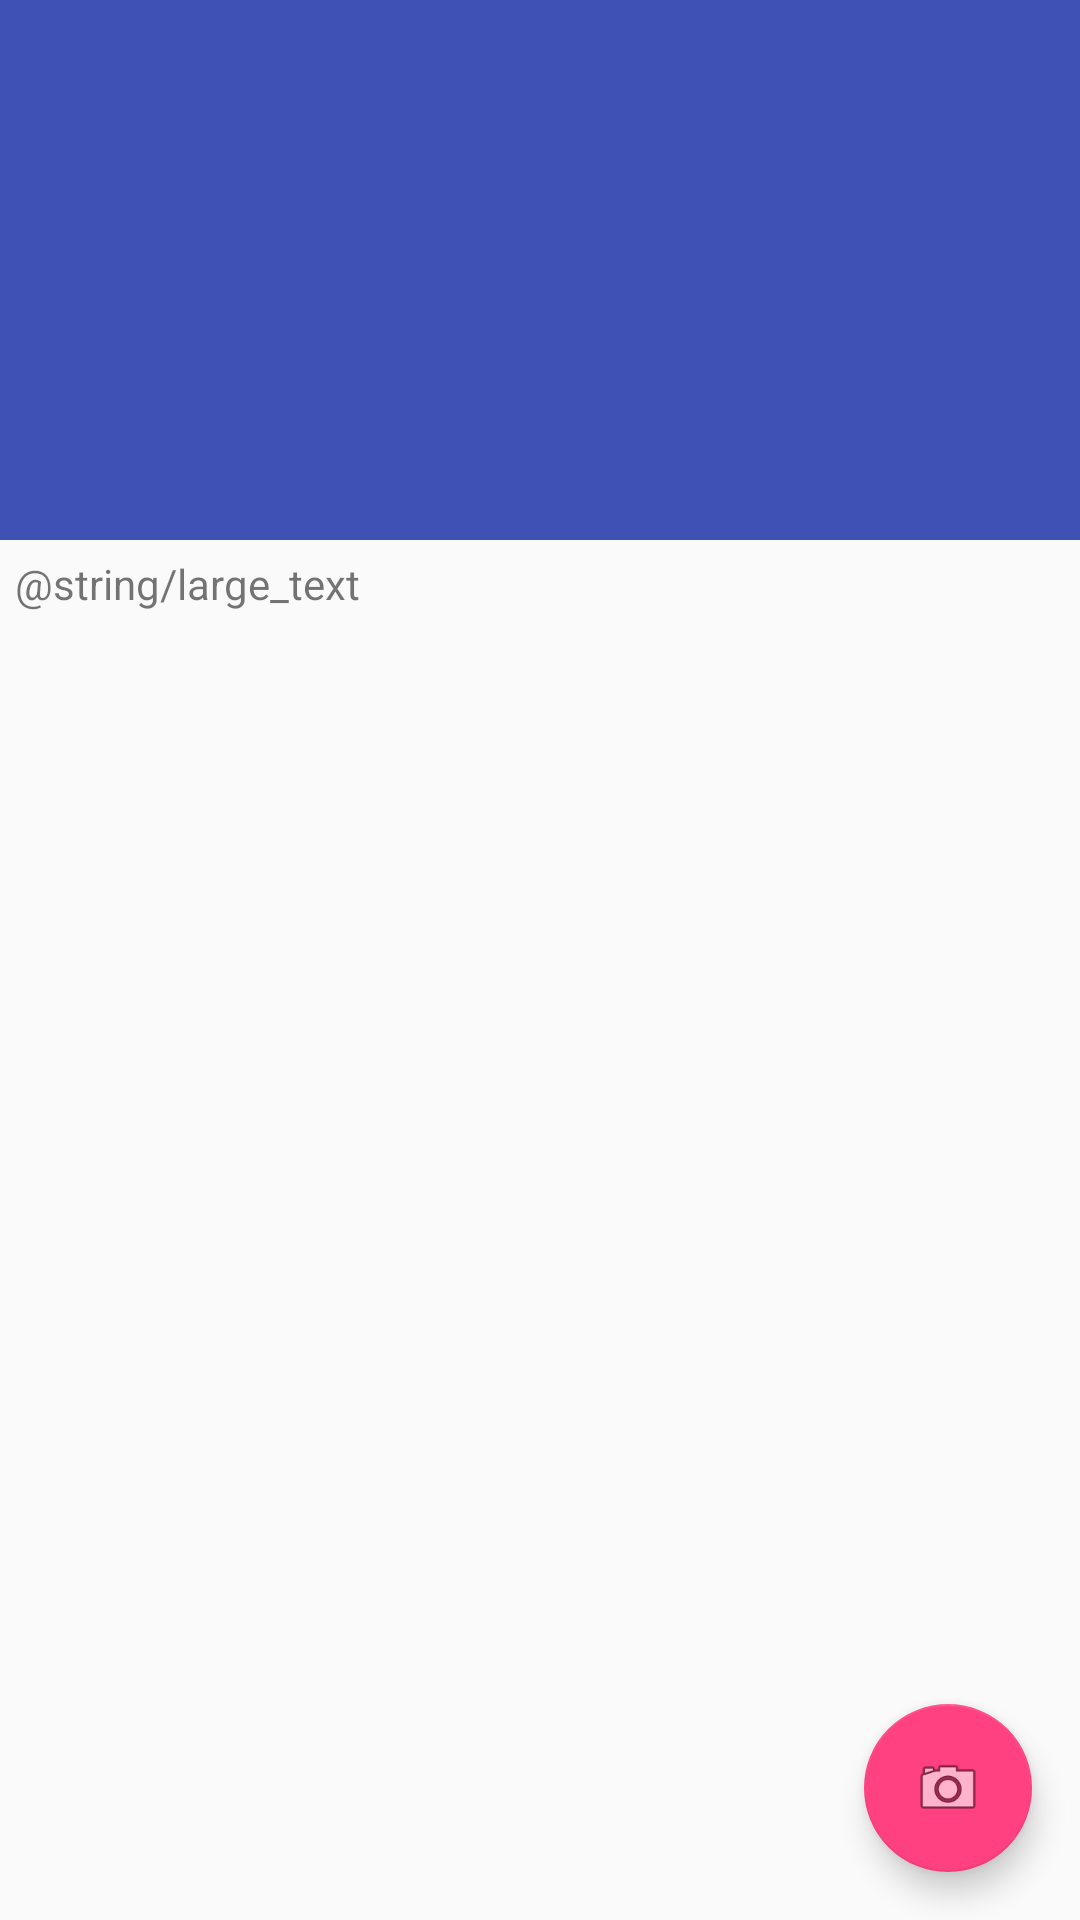

Locate icon controls on the screen. Image size 1080 x 1920, boxes as (left=x1, top=y1, right=x2, bottom=y2).
camera: (left=864, top=1704, right=1032, bottom=1872)
